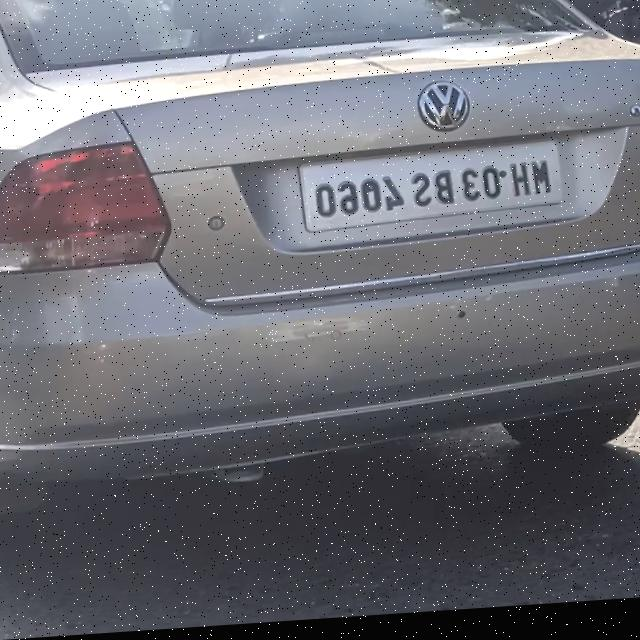plate: (288, 138, 567, 246)
